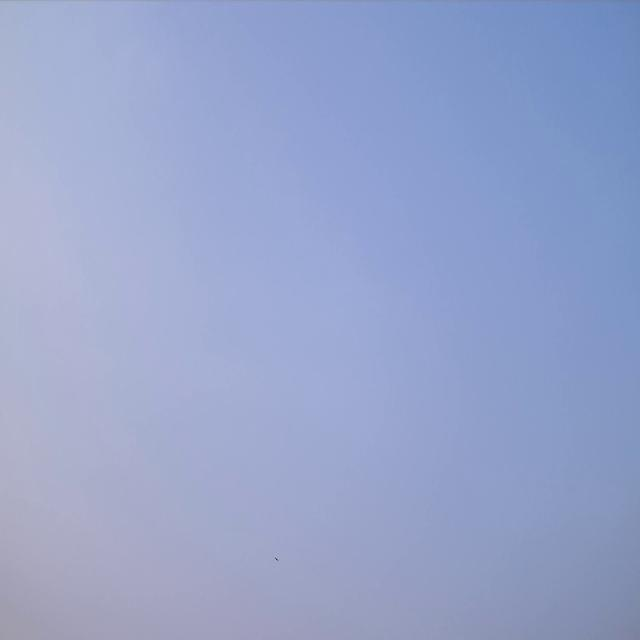UAV: (274, 556, 279, 562)
